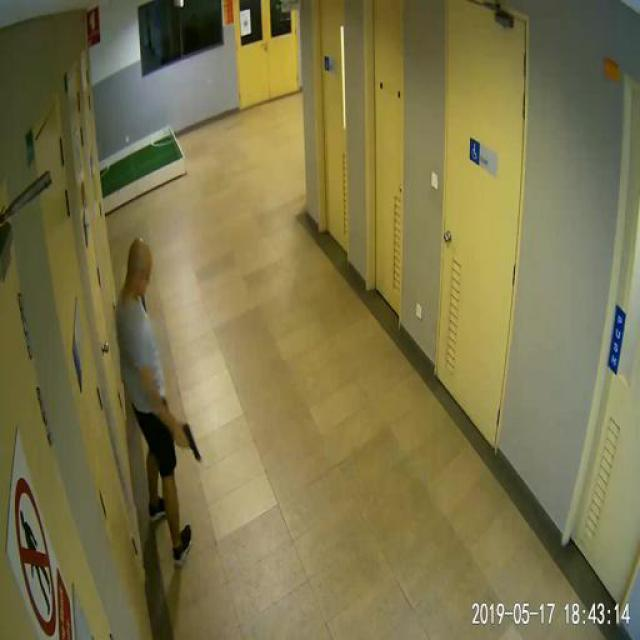Gun: (176, 420, 199, 460)
